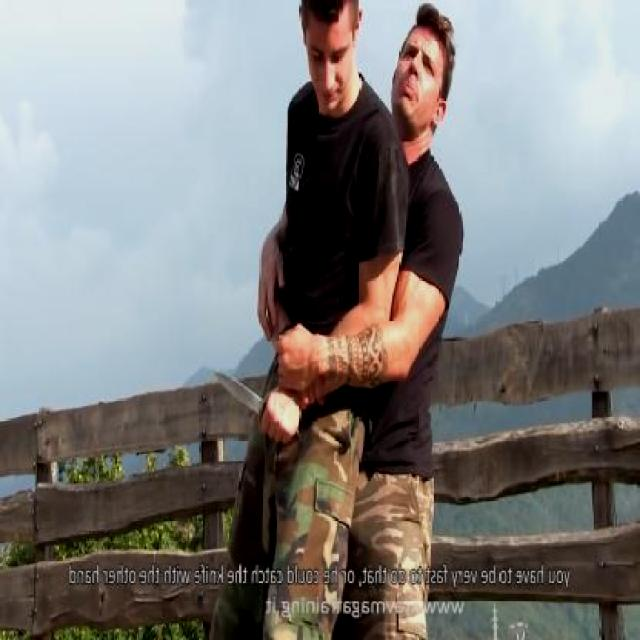knife: (209, 358, 303, 451)
